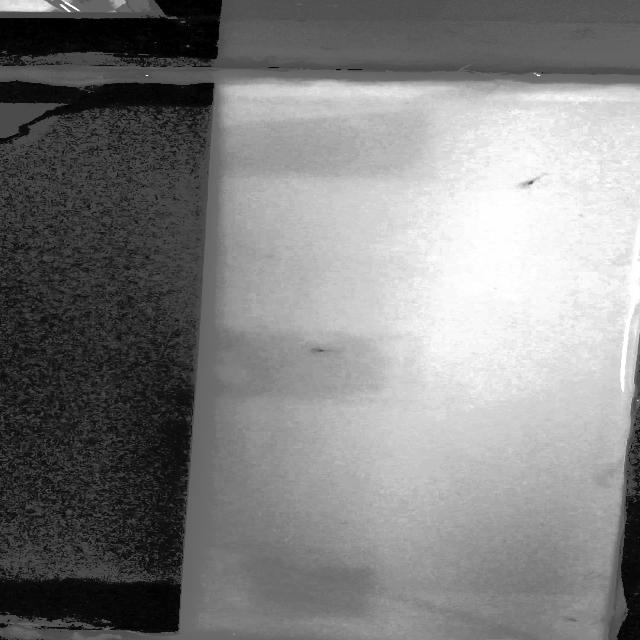shrimp: (508, 171, 550, 192), (306, 343, 333, 358), (558, 615, 587, 627)
